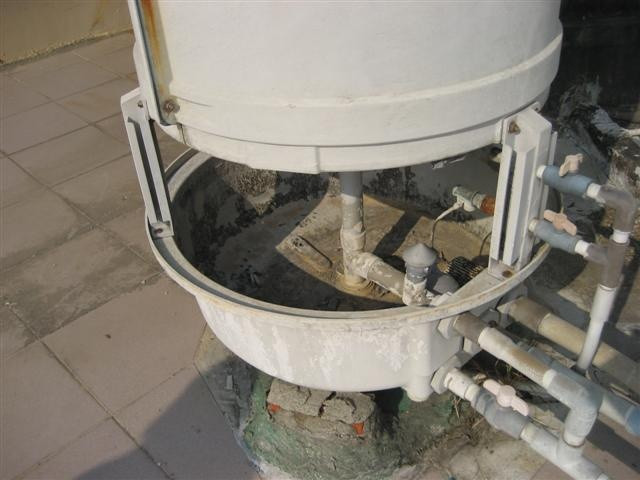water_tower: (122, 1, 563, 401)
